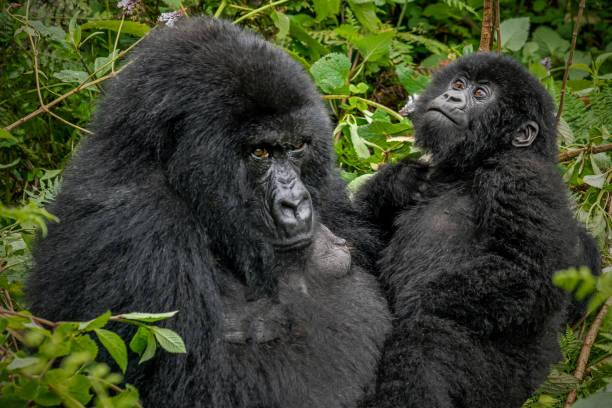goriile_montagne: (40, 1, 378, 401), (390, 48, 585, 397)
